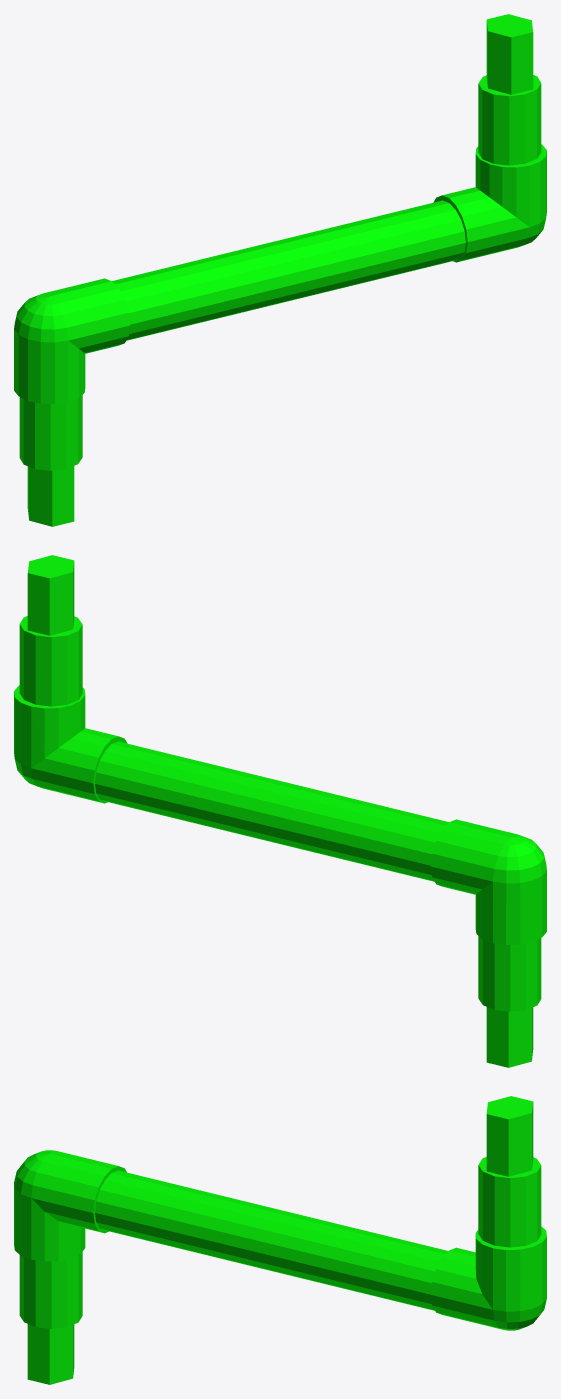
Rendered from insexnyckel_correct.obj.
The picture shows the model from 3 angles, top to bottom: view 1: azimuth 30°, elevation 25°; view 2: azimuth 150°, elevation 25°; view 3: azimuth 330°, elevation 25°; orthographic projection.
Bounding box in the file's own units: 100 × 68.89 × 12.18.
